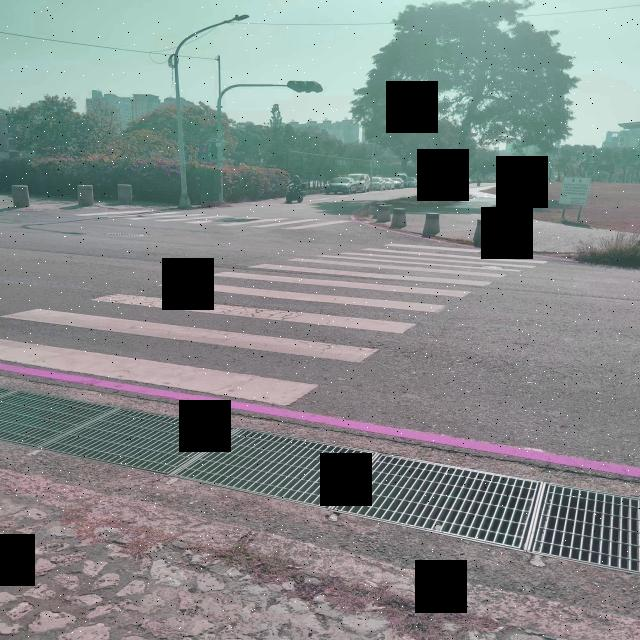zebra_crossing: (0, 238, 547, 408), (74, 209, 347, 230)
